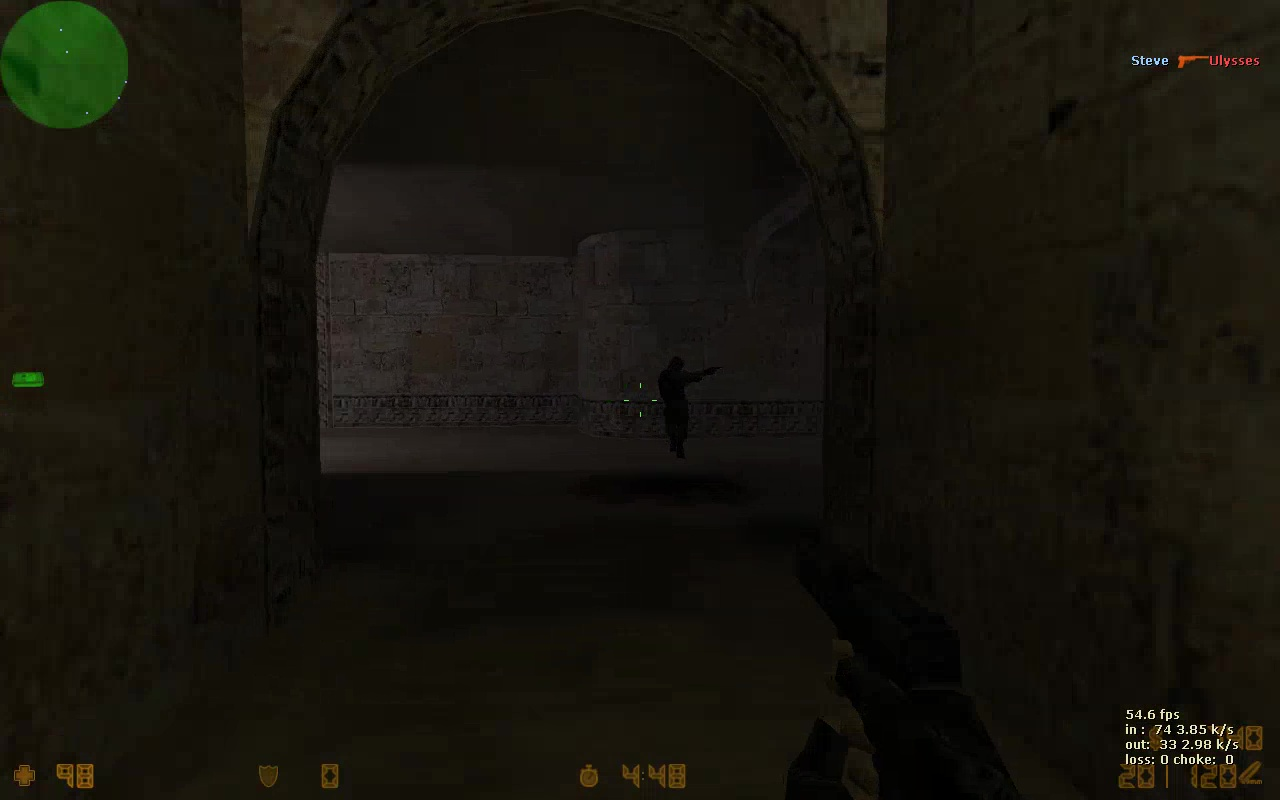terr1: (656, 357, 723, 460)
